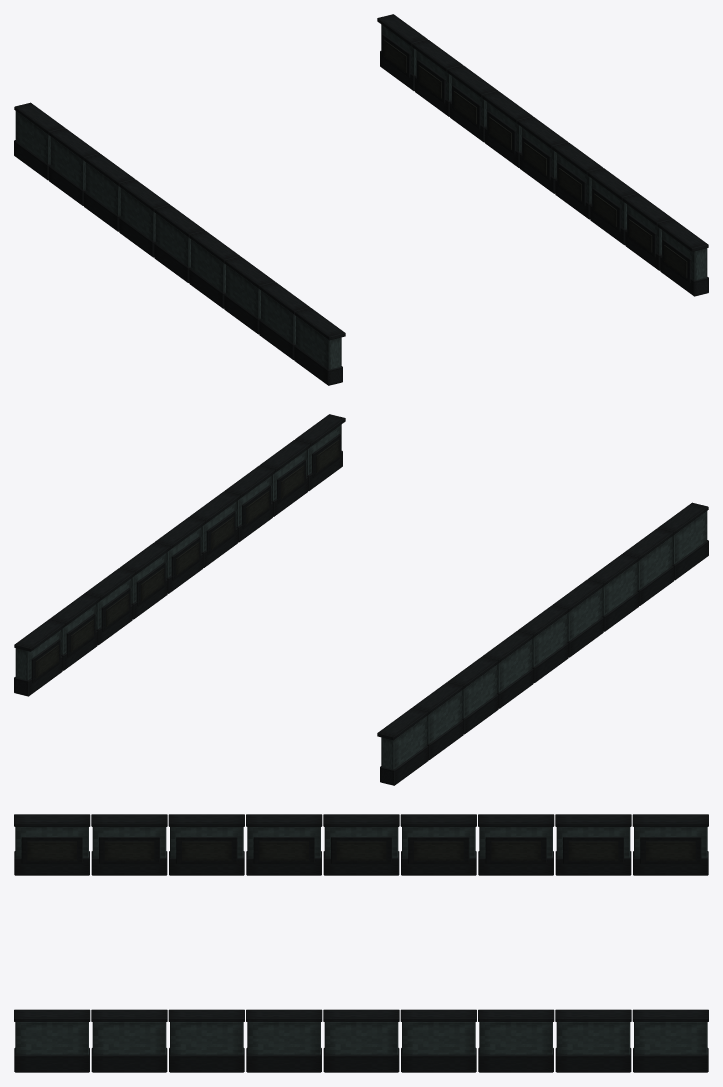
Rendered from THStage_ArchiveWainscot.fbx.
The picture shows the model from 3 angles, top to bottom: view 1: azimuth 30°, elevation 25°; view 2: azimuth 150°, elevation 25°; view 3: azimuth 270°, elevation 25°; orthographic projection. The views are drawn at different scales.
Visible parts, largest first — view 1: THStage_ArchiveWainscot; view 2: THStage_ArchiveWainscot; view 3: THStage_ArchiveWainscot.
Part boxes in pixels (x1=…): THStage_ArchiveWainscot: x1=14, y1=14, x2=708, y2=385; THStage_ArchiveWainscot: x1=14, y1=414, x2=708, y2=785; THStage_ArchiveWainscot: x1=14, y1=814, x2=708, y2=1072.
Bounding box in the file's own units: 4.96 × 0.6125 × 7.1.
Materials: 1 (1 with a texture image).
